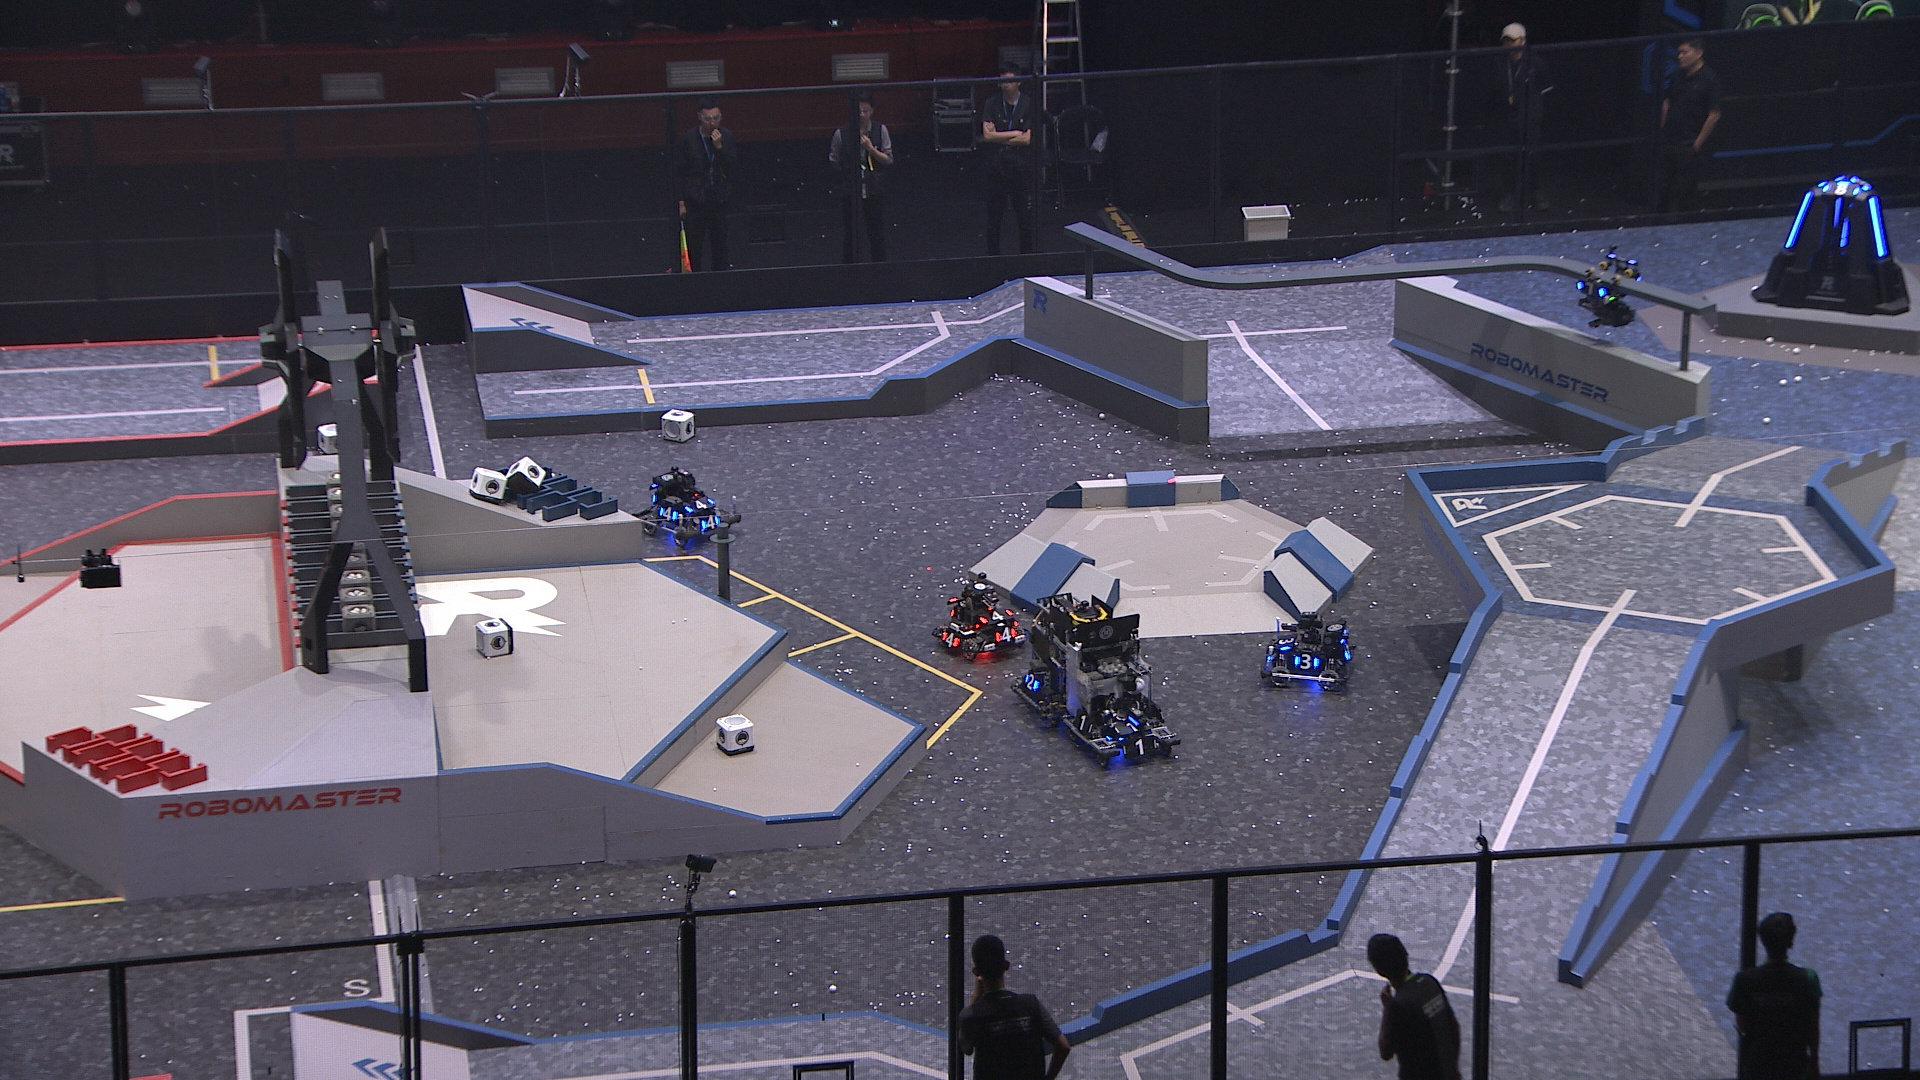armor: (1785, 190, 1813, 251), (1869, 193, 1884, 258), (1822, 177, 1859, 199), (1125, 736, 1159, 757), (1575, 280, 1607, 301), (981, 607, 1013, 626), (1114, 717, 1149, 733), (1072, 712, 1095, 735), (1292, 654, 1319, 671), (688, 496, 713, 513), (1022, 670, 1040, 692), (1832, 199, 1844, 233), (997, 624, 1015, 645), (699, 517, 723, 533), (1276, 636, 1295, 655), (655, 505, 676, 522), (938, 632, 960, 647), (1342, 642, 1353, 665)
base: (1749, 175, 1916, 318)
car: (1059, 609, 1182, 764), (1013, 589, 1117, 725), (931, 579, 1029, 661), (1259, 608, 1357, 688), (636, 467, 727, 547)
watcher: (1572, 249, 1643, 328)
